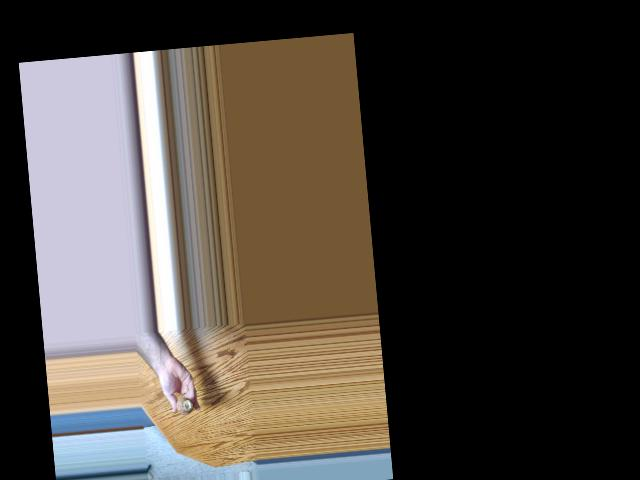sweet_potato: (173, 398, 193, 416)
